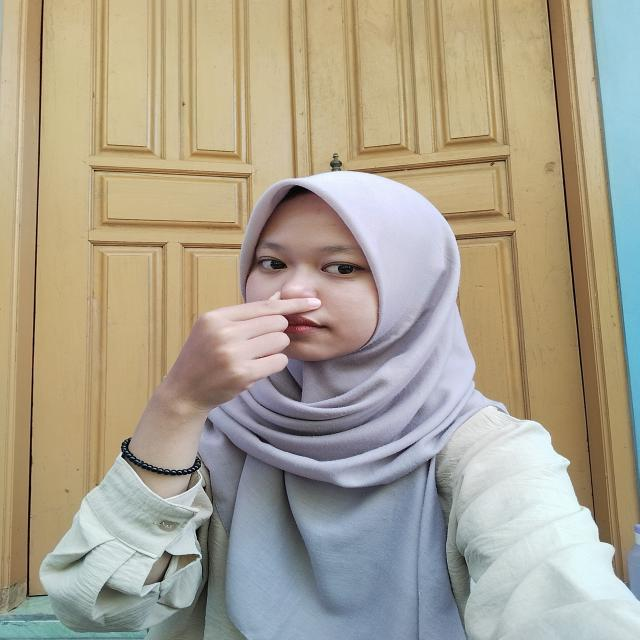bau: (155, 272, 327, 419)
